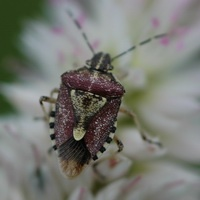insect: (39, 11, 166, 176)
